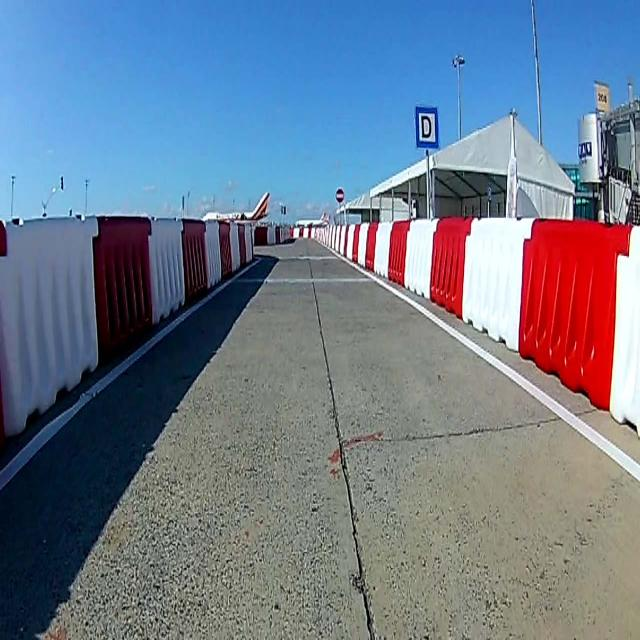durak: (414, 105, 438, 147)
girisyok: (336, 186, 344, 202)
